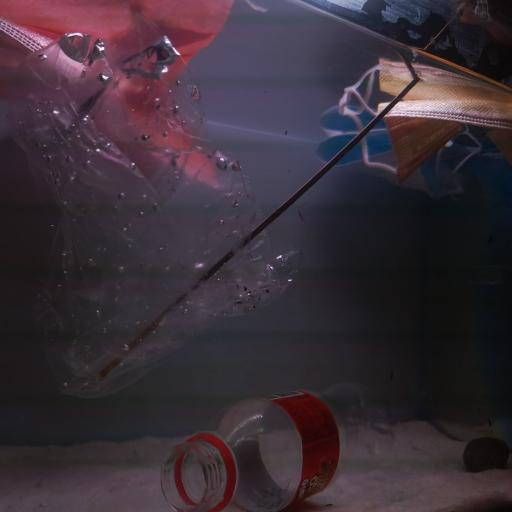mask: (7, 14, 221, 208), (344, 59, 512, 184), (315, 113, 481, 210)
plastic_bag: (22, 14, 301, 390)
plastic_bottle: (162, 383, 396, 512)
